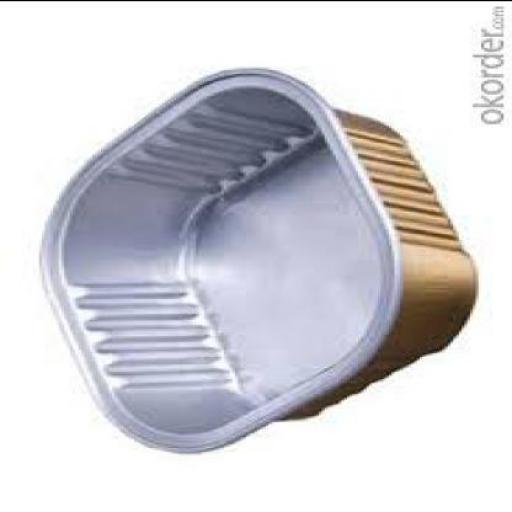metal: (39, 67, 475, 460)
